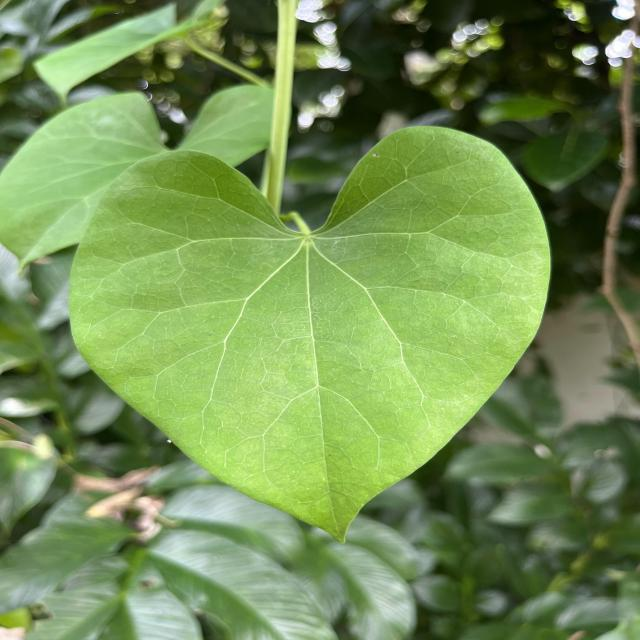Tinospora cordifolia: (63, 122, 556, 550)
